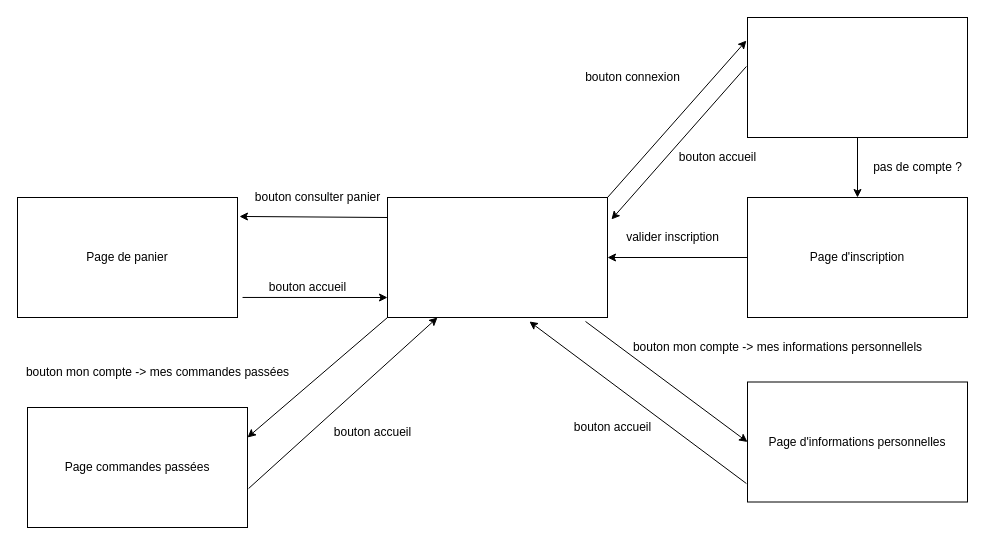
This 985x545 diagram has some shape labels left out. The centre of each missing label's shape, as x and y in pixels:
"Page d'accueil" goes at [497,257].
"Page de connexion" goes at [857,77].
